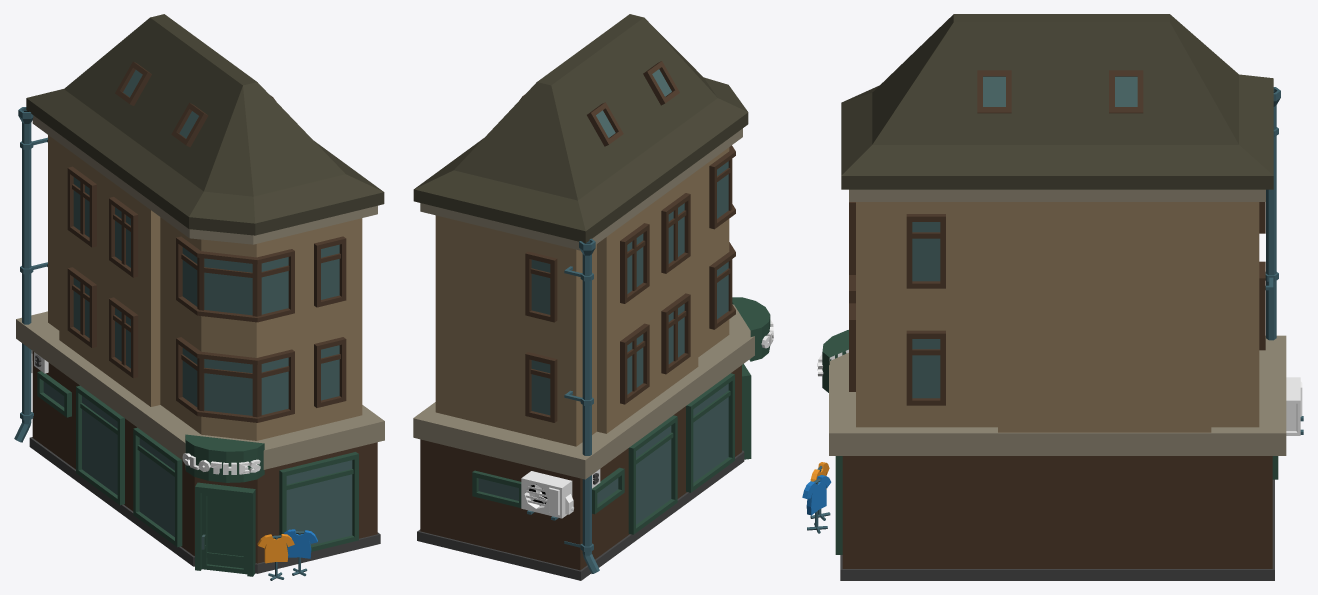
File: Level1_newhouse.fbx
The picture shows the model from 3 angles, left to right: view 1: azimuth 30°, elevation 25°; view 2: azimuth 150°, elevation 25°; view 3: azimuth 270°, elevation 25°; orthographic projection. The views are drawn at different scales.
Visible parts, largest first — view 1: level_008; view 2: level_008; view 3: level_008.
Boxes of the visible parts, left/top/right/bottom form: level_008: left=14, top=14, right=384, bottom=580; level_008: left=413, top=14, right=773, bottom=580; level_008: left=802, top=14, right=1303, bottom=580.
Bounding box in the file's own units: 460 × 1105 × 933.
